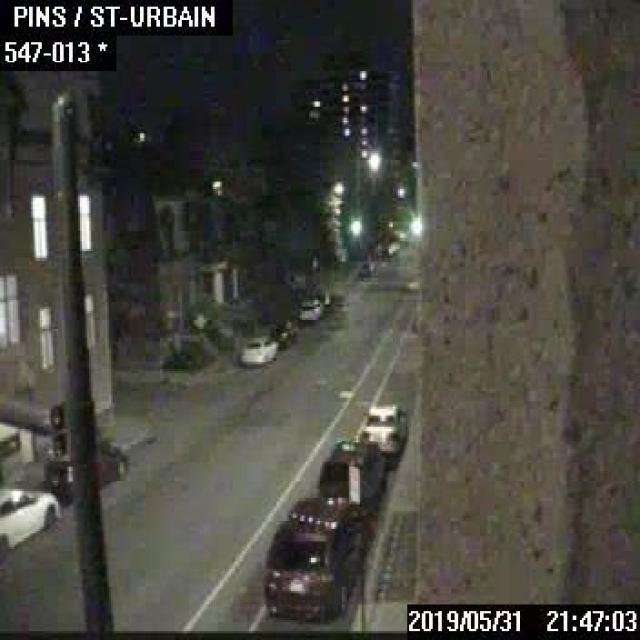vehicle: (264, 494, 374, 620), (317, 437, 388, 512), (43, 438, 127, 501), (0, 485, 58, 551), (361, 402, 404, 454), (238, 333, 277, 365), (266, 316, 297, 346), (296, 296, 322, 318), (356, 260, 375, 276)
